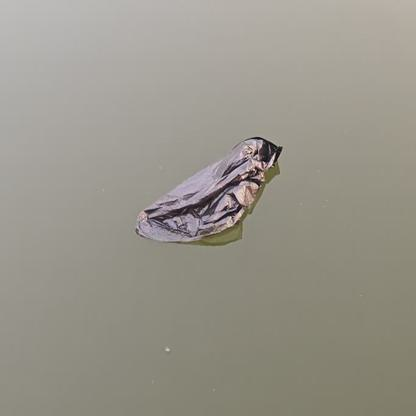plastic bag: (134, 136, 282, 241)
